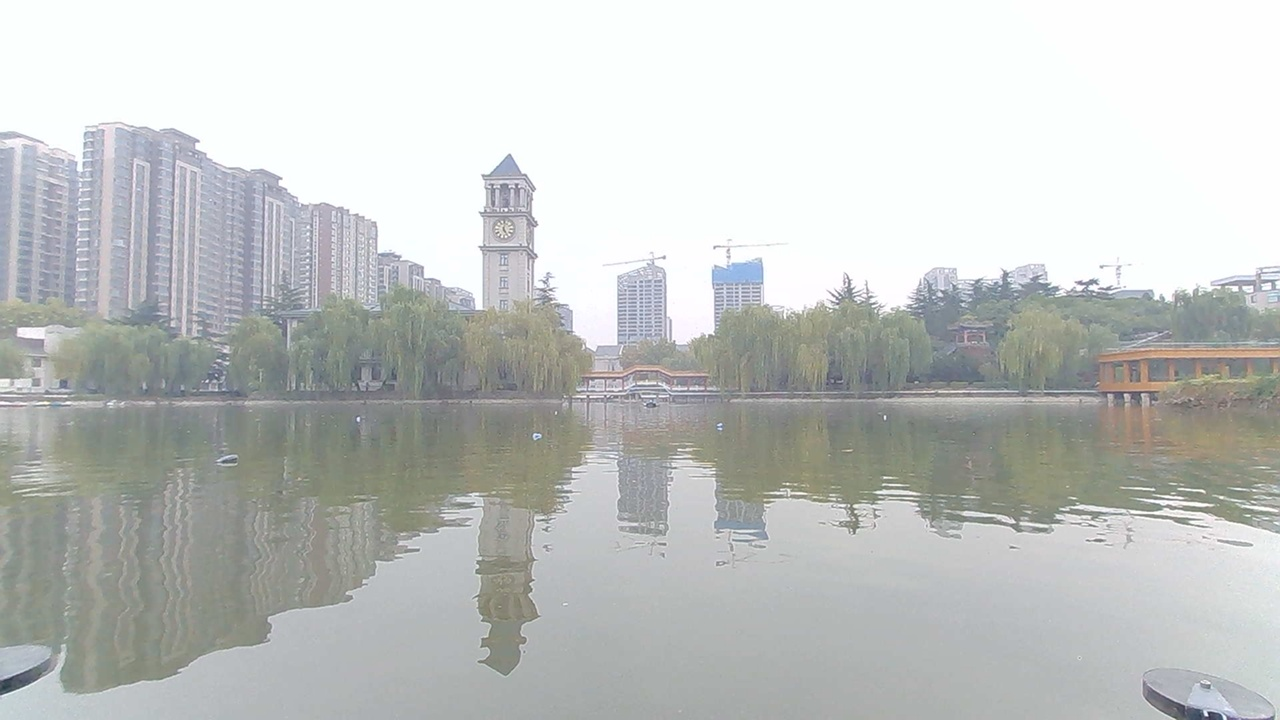bottle: (215, 446, 252, 475), (343, 406, 380, 435), (705, 410, 739, 437), (874, 402, 904, 428), (524, 429, 561, 450), (546, 406, 575, 428)
